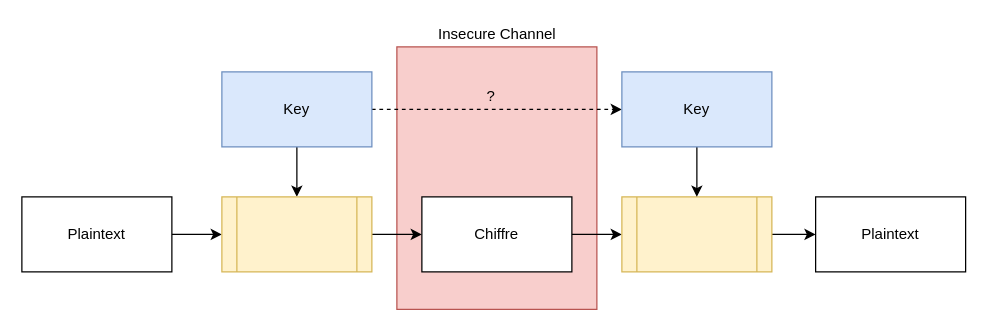
The diagram is 988 pixels wide and 331 high, and some of its shapes have lost their labels. The centre of each missing label's shape, as x and y in pixels:
"Symmetric Decryption" goes at (696,234).
"Symmetric Encryption" goes at (296,234).
